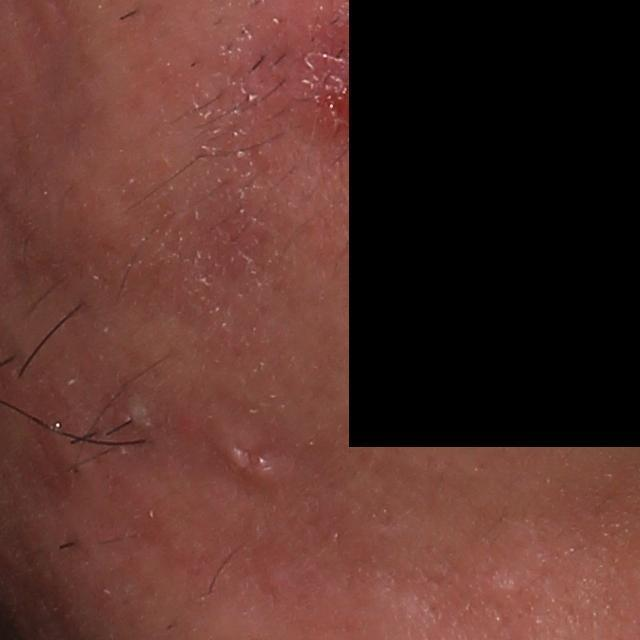hypertrophic_scar: (207, 412, 295, 495), (125, 393, 154, 436)
